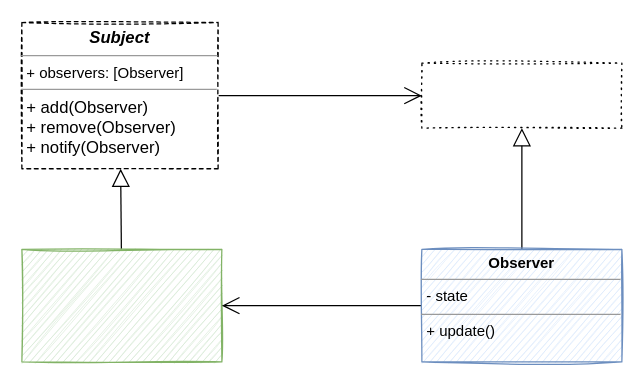
This 644x384 diagram has some shape labels left out. Each missing label, with the centre of its shape:
"Observer + update()" belongs at [521,95].
"Subject - state + method(): Type" belongs at [121,305].
